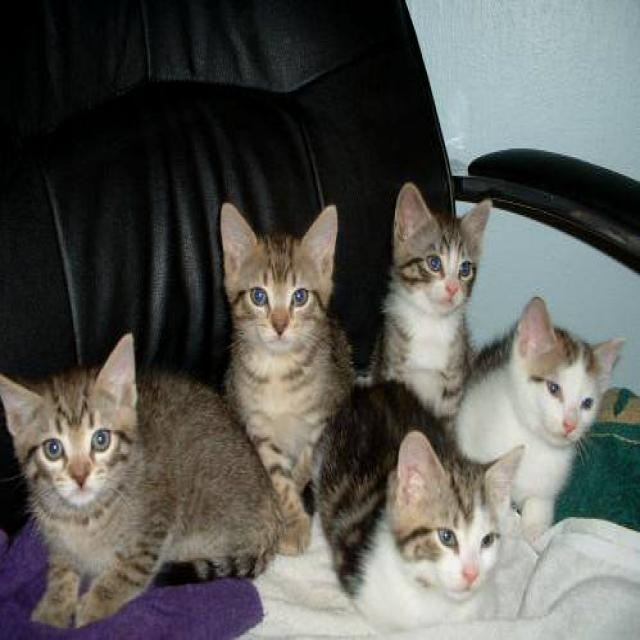Kucing: (18, 276, 183, 582), (307, 392, 501, 584), (213, 192, 351, 372), (509, 273, 632, 468), (391, 159, 500, 347)
